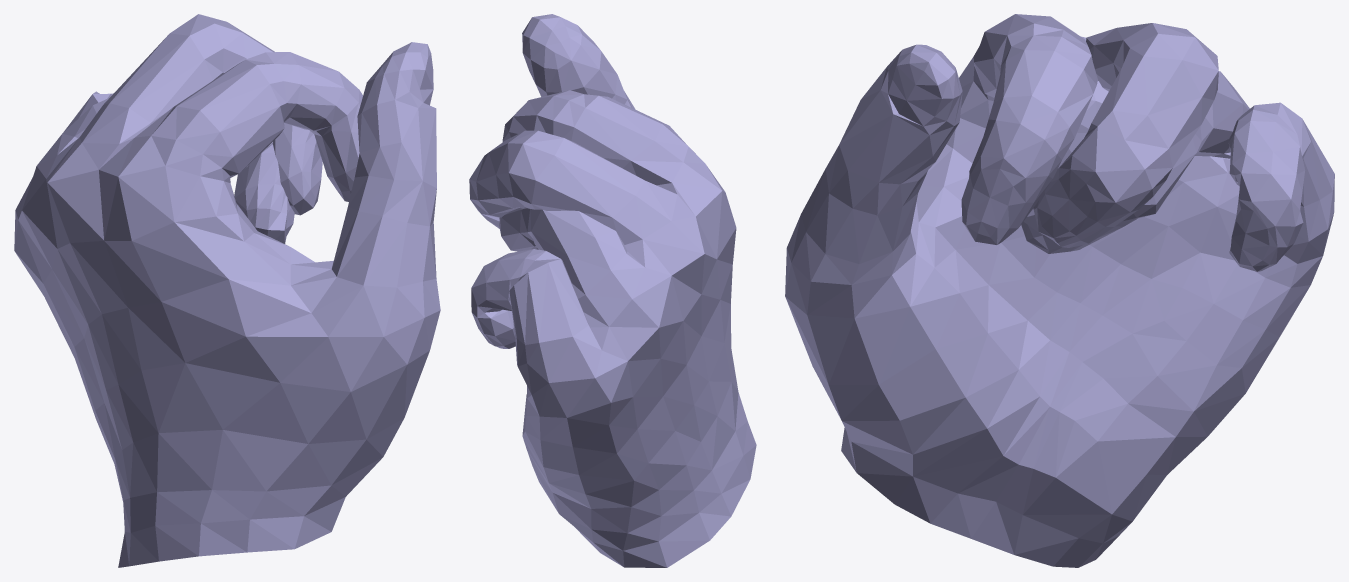
File: frame_0080_source_000080_hand.glb
3 views of the same model, side by side, from view 1: azimuth 30°, elevation 25°; view 2: azimuth 150°, elevation 25°; view 3: azimuth 270°, elevation 25° (orthographic). The views are drawn at different scales.
Parts seen in each view (by area): view 1: world; view 2: world; view 3: world.
Part boxes in pixels (left/top/right/bottom): world: left=14, top=14, right=440, bottom=567; world: left=469, top=14, right=756, bottom=567; world: left=785, top=14, right=1334, bottom=567.
Size of the model in its own units: 0.0692 by 0.118 by 0.1.
